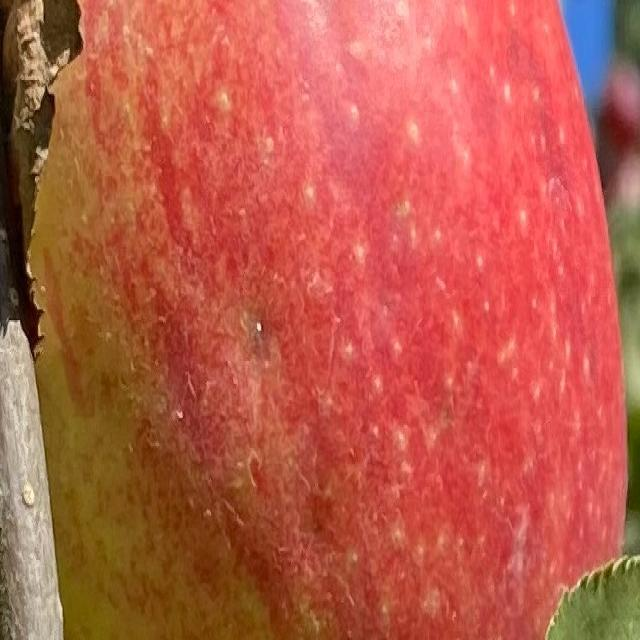100-_ripeness: (28, 0, 629, 640)
